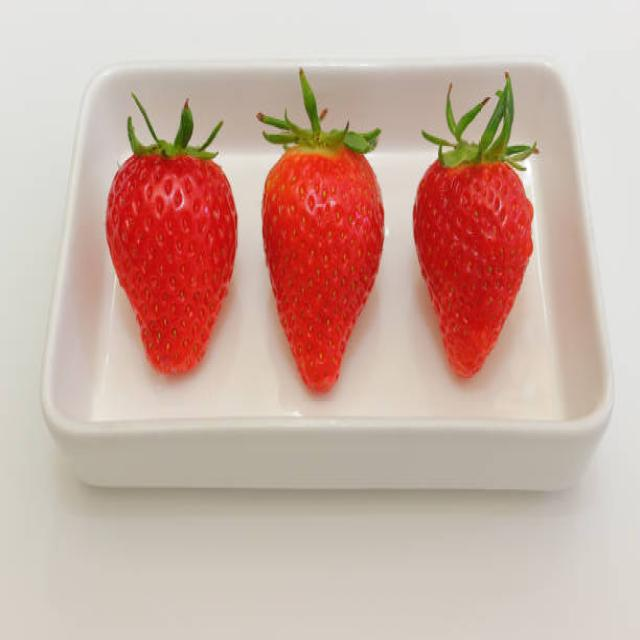Healthy Fruit: (261, 144, 385, 397), (106, 145, 238, 377), (412, 155, 533, 381)
